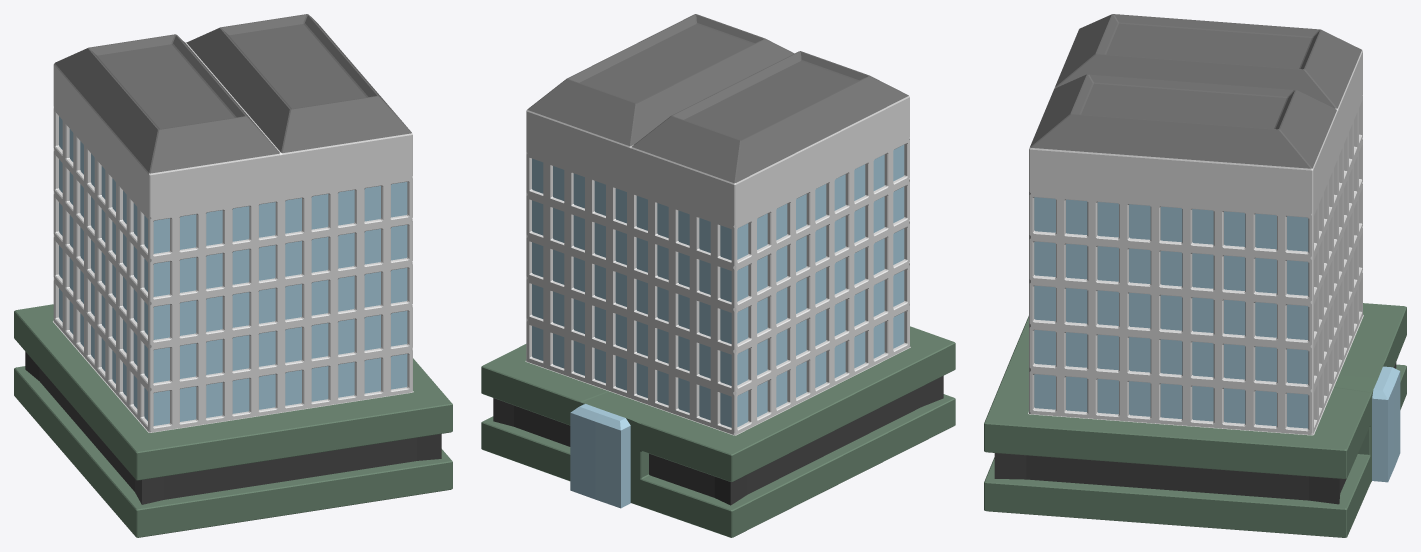
Rendered from Building14.fbx.
3 renders of one model, left to right at view 1: azimuth 30°, elevation 25°; view 2: azimuth 150°, elevation 25°; view 3: azimuth 270°, elevation 25°, orthographic. The views are drawn at different scales.
Parts seen in each view (by area): view 1: Cube.047, Cube.078, Cube.079, Cube.048, Cube.049; view 2: Cube.047, Cube.048, Cube.078, Cube.079, Cube.049, Cube.050; view 3: Cube.047, Cube.079, Cube.078, Cube.048, Cube.049, Cube.050.
Boxes of the visible parts, x1,y1,x2,y2 form: Cube.047: (53,42,413,432); Cube.078: (14,304,452,537); Cube.079: (55,14,411,173); Cube.048: (59,116,407,425); Cube.049: (25,352,441,504); Cube.047: (525,96,910,435); Cube.048: (532,145,904,427); Cube.078: (481,326,955,537); Cube.079: (527,14,908,183); Cube.049: (493,376,943,505); Cube.050: (570,404,630,508); Cube.047: (1028,30,1363,435); Cube.079: (1030,14,1361,168); Cube.078: (984,303,1406,537); Cube.048: (1034,197,1308,428); Cube.049: (994,362,1396,504); Cube.050: (1372,366,1400,482).
Bounding box in the file's own units: 3101 × 3221 × 3240.
